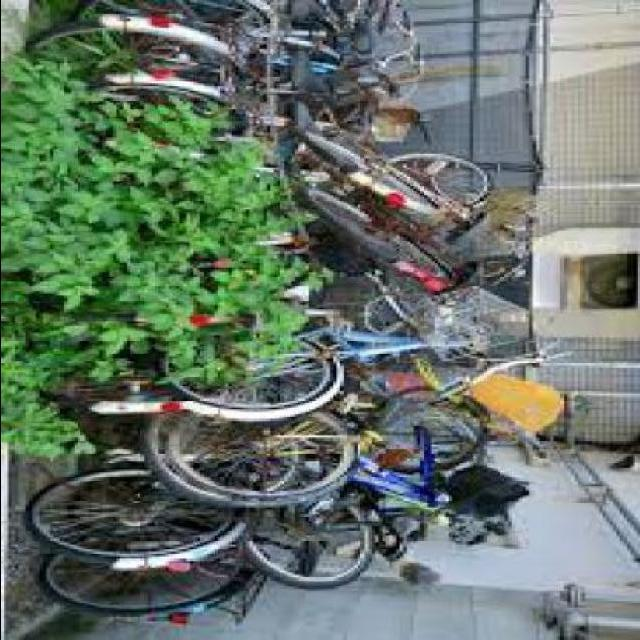bicycle: (179, 282, 563, 438)
